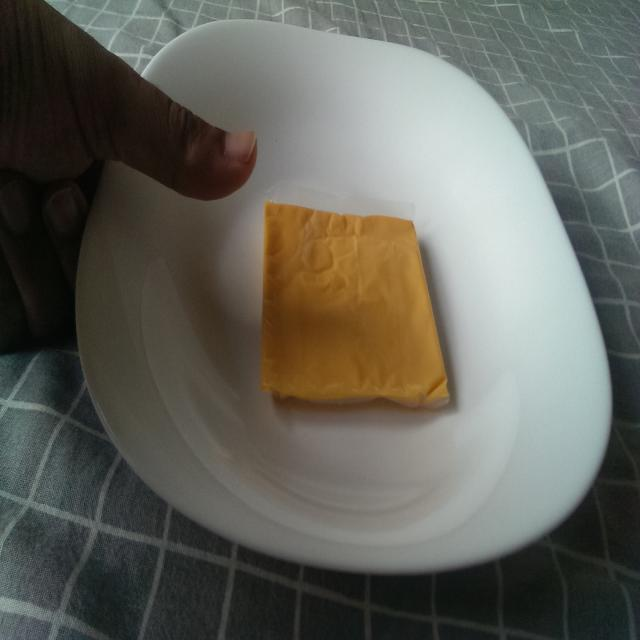Cheese: (258, 196, 456, 420)
Finger: (162, 84, 262, 205)
